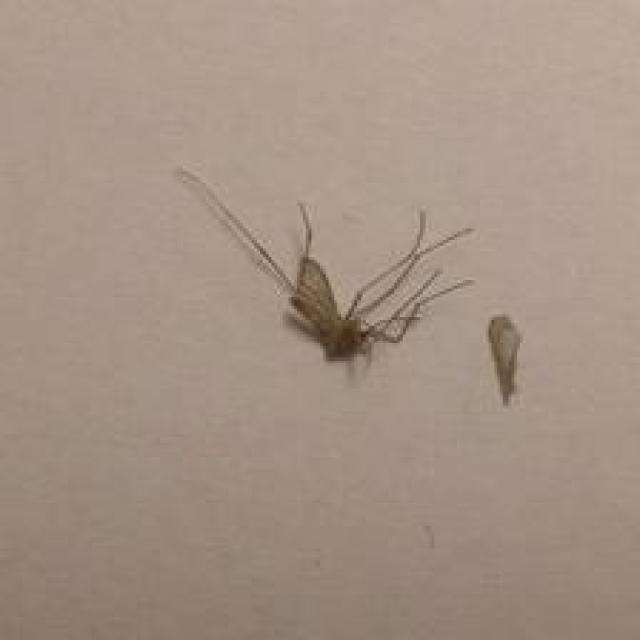Culex: (177, 163, 477, 383)
